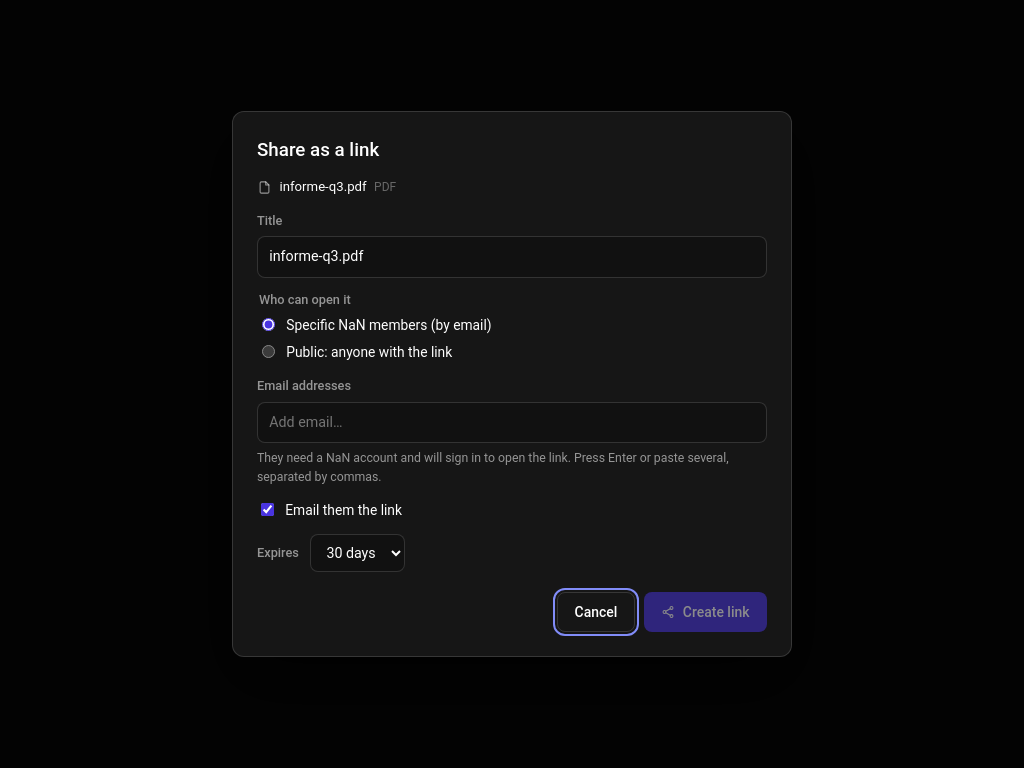
Test case: ShareArtifactDialog: scopes › no verification codes anywhere in the community email flow (R21)
Later steps or results of the test are not shown.
In the field labelled "Email addresses": x=512, y=423 [257,402,767,443], type "ana@example.com"
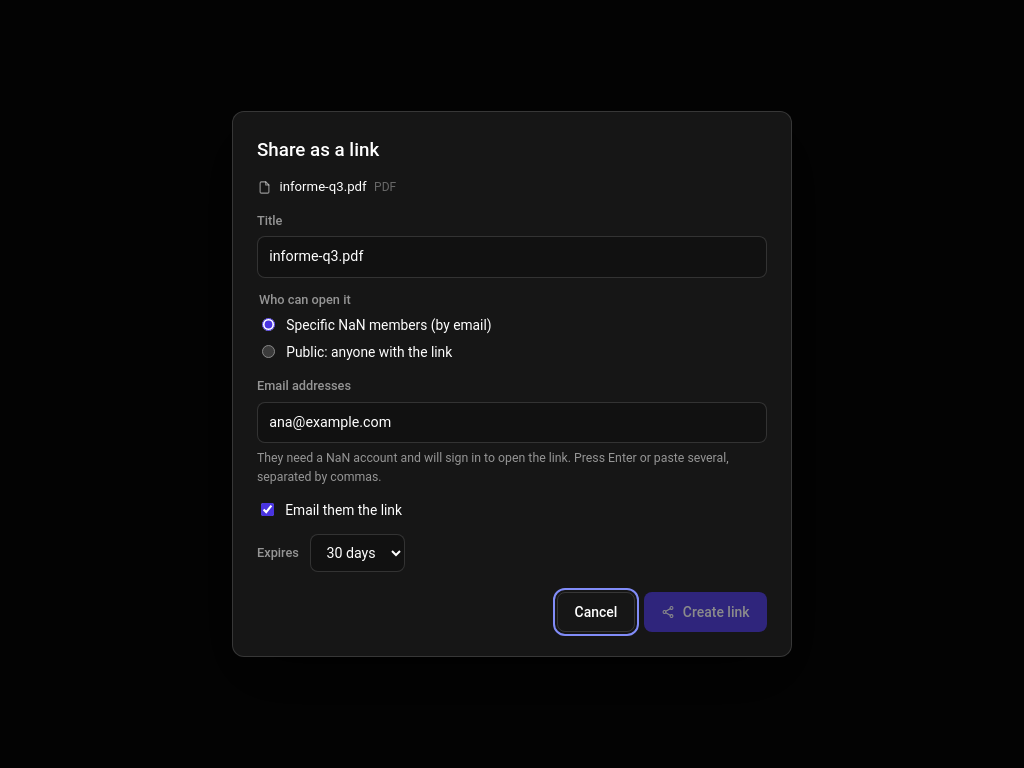
Press Enter in the field labelled "Email addresses", box [257,402,767,443]
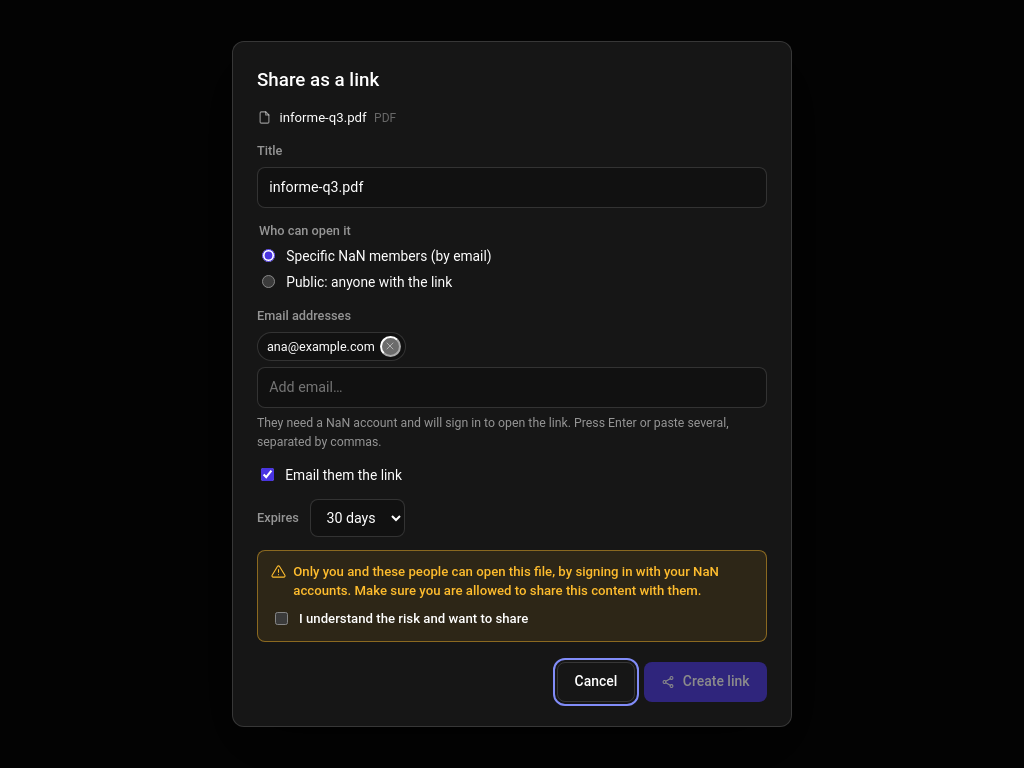
Now the dialog shows "signing in with your NaN accounts", box [293,564,719,598]
